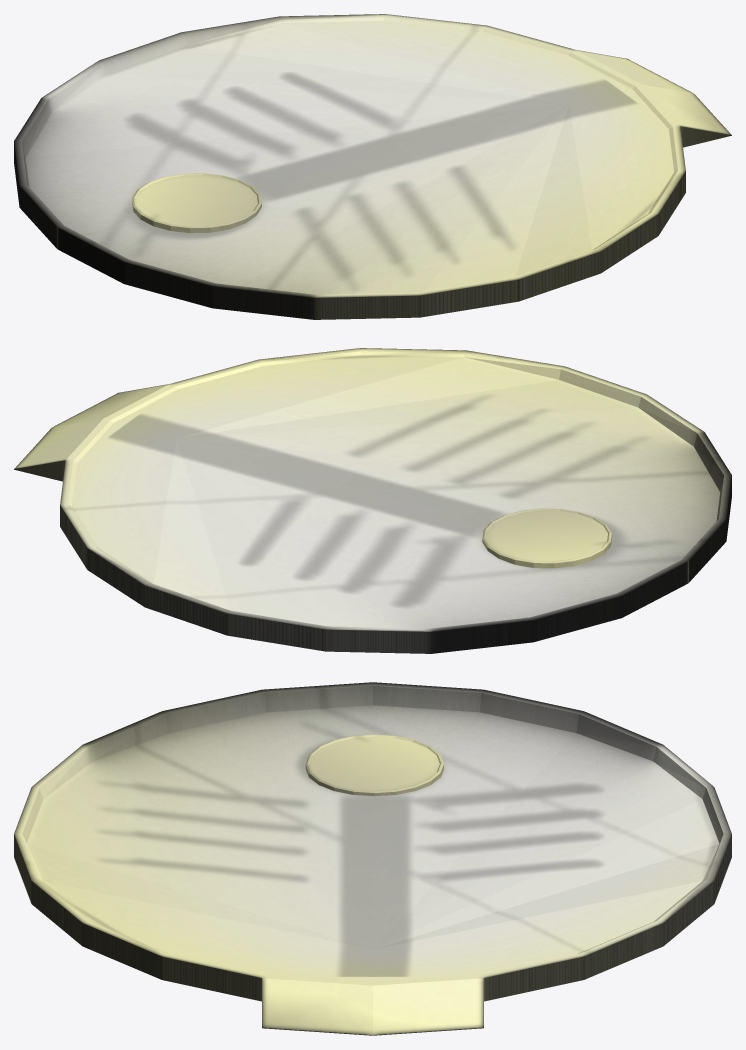
File: stage.obj
3 renders of one model, top to bottom at view 1: azimuth 30°, elevation 25°; view 2: azimuth 150°, elevation 25°; view 3: azimuth 270°, elevation 25°, orthographic. The views are drawn at different scales.
Size of the model in its own units: 11.28 by 0.3717 by 10.36.
Materials: 1 (1 with a texture image).
